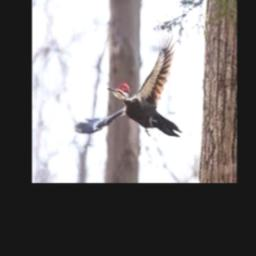Woodpecker: (74, 31, 182, 137)
